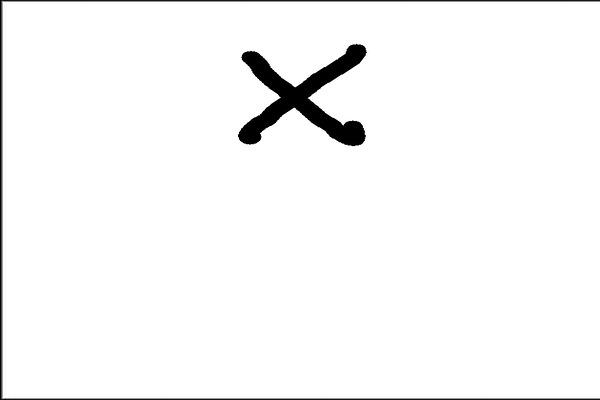X: (222, 34, 393, 160)
